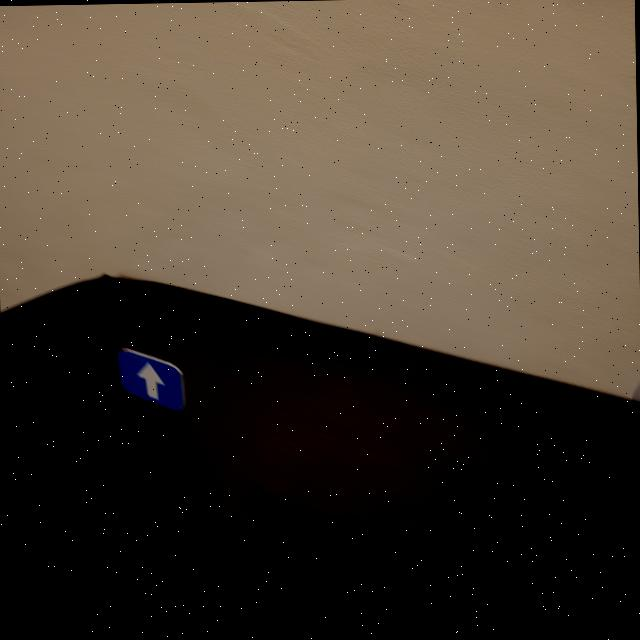one_way: (116, 346, 185, 411)
